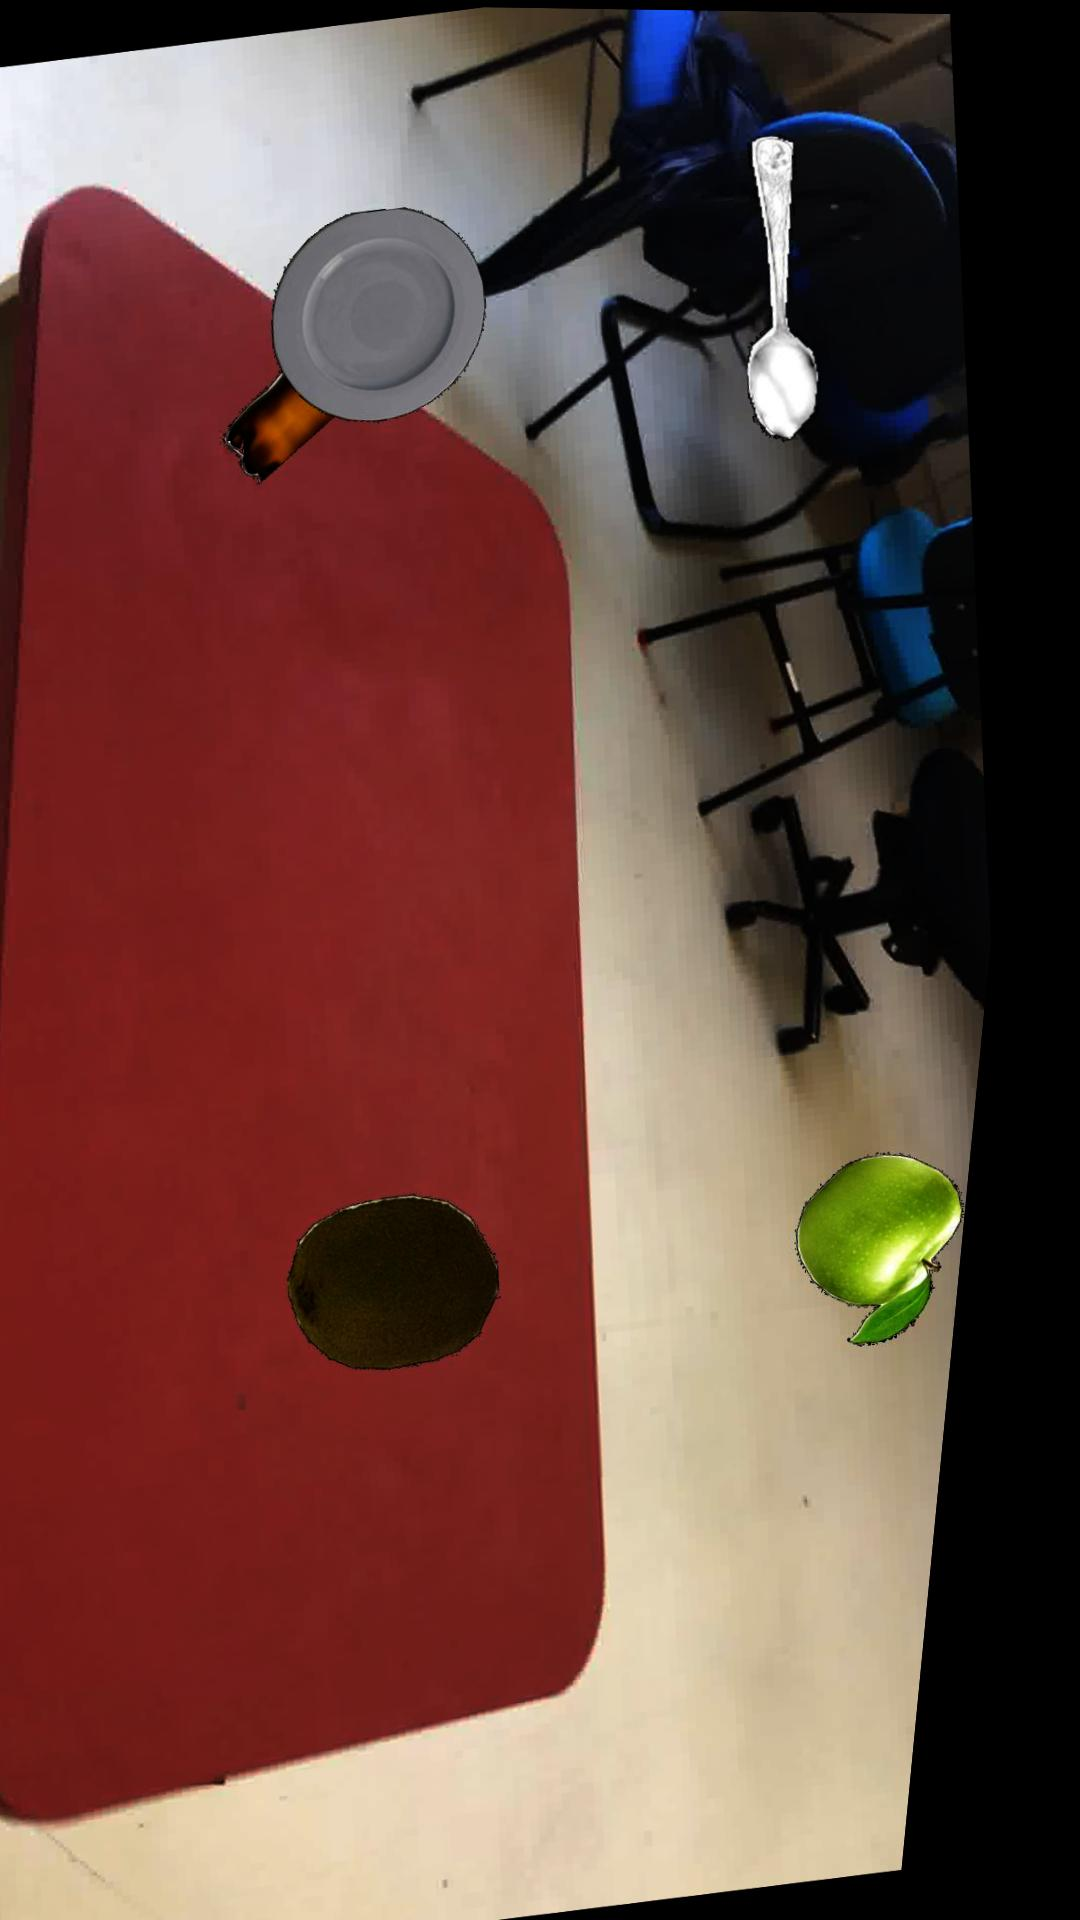green apple: (819, 1150, 986, 1342)
guarana: (232, 371, 340, 484)
kiwi: (311, 1192, 522, 1369)
plate: (276, 207, 489, 421)
spoon: (748, 132, 827, 438)
